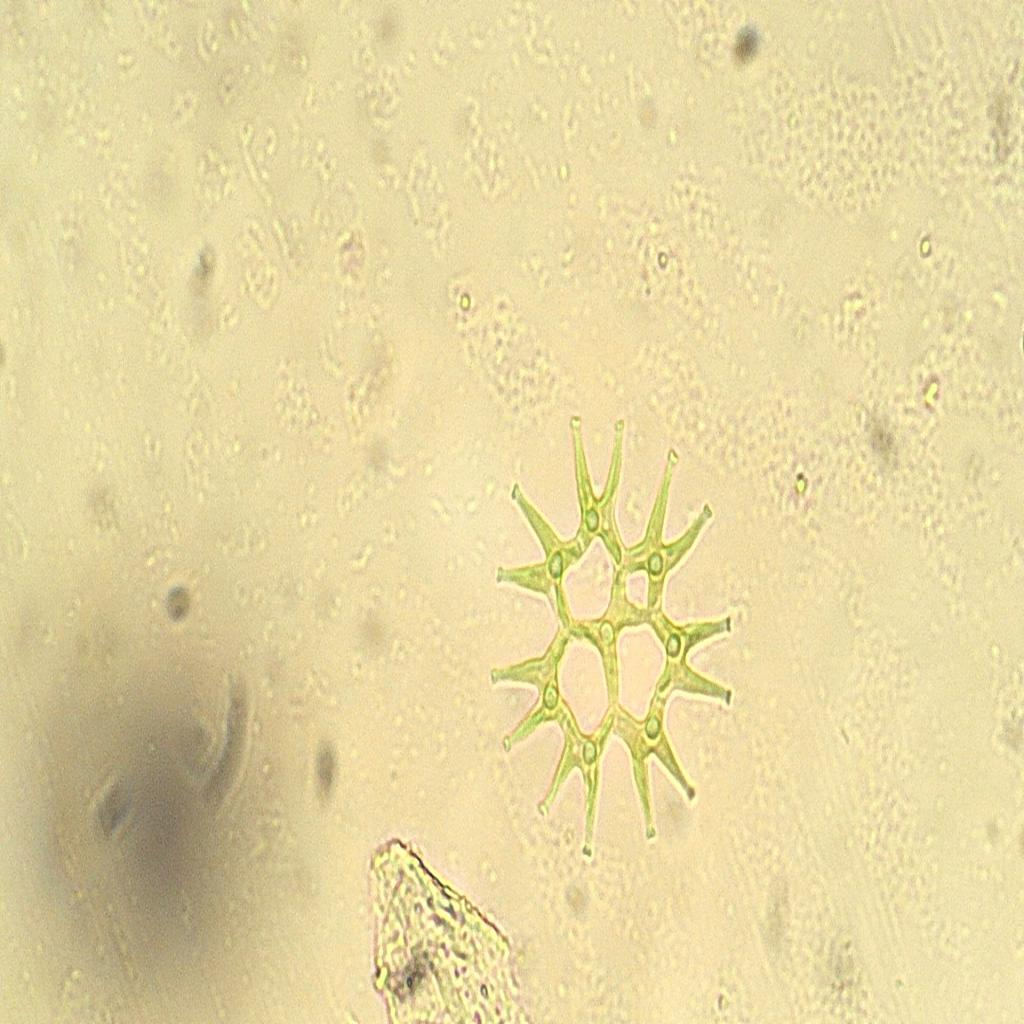Pediastrum_75T: (482, 393, 744, 870)
